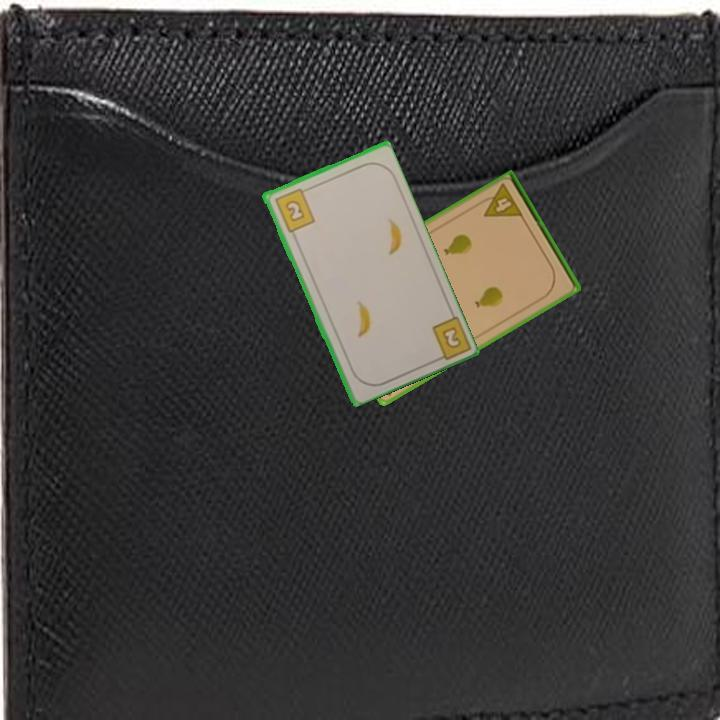2b: (428, 311, 472, 365), (271, 185, 317, 235)
4p: (474, 180, 526, 221)
